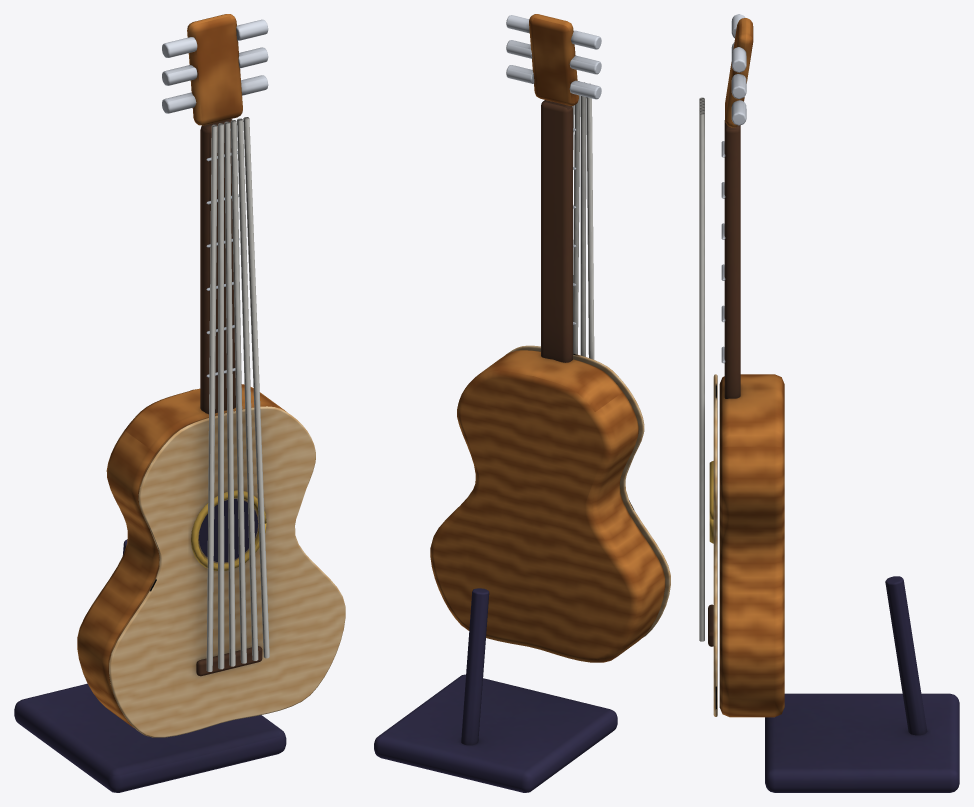
File: AcousticGuitar.fbx
3 renders of one model, left to right at view 1: azimuth 30°, elevation 25°; view 2: azimuth 150°, elevation 25°; view 3: azimuth 270°, elevation 25°, orthographic. The views are drawn at different scales.
Visible parts, largest first — view 1: AcousticGuitar_Body, String_0_Mesh, String_2_Mesh, String_3_Mesh, String_4_Mesh, String_5_Mesh, String_1_Mesh; view 2: AcousticGuitar_Body, String_1_Mesh, String_0_Mesh, String_2_Mesh; view 3: AcousticGuitar_Body, String_5_Mesh.
Part boxes in pixels (x1,y1,x2,y2): AcousticGuitar_Body: (14,14,345,792); String_0_Mesh: (206,124,217,671); String_2_Mesh: (224,121,235,666); String_3_Mesh: (230,120,246,663); String_4_Mesh: (237,118,258,660); String_5_Mesh: (243,117,269,658); String_1_Mesh: (218,123,224,669); AcousticGuitar_Body: (374,14,670,792); String_1_Mesh: (580,82,586,356); String_0_Mesh: (586,83,594,359); String_2_Mesh: (573,95,580,354); AcousticGuitar_Body: (708,14,959,792); String_5_Mesh: (699,112,704,641).
Size of the model in its own units: 0.4 by 1.24 by 0.4015.
